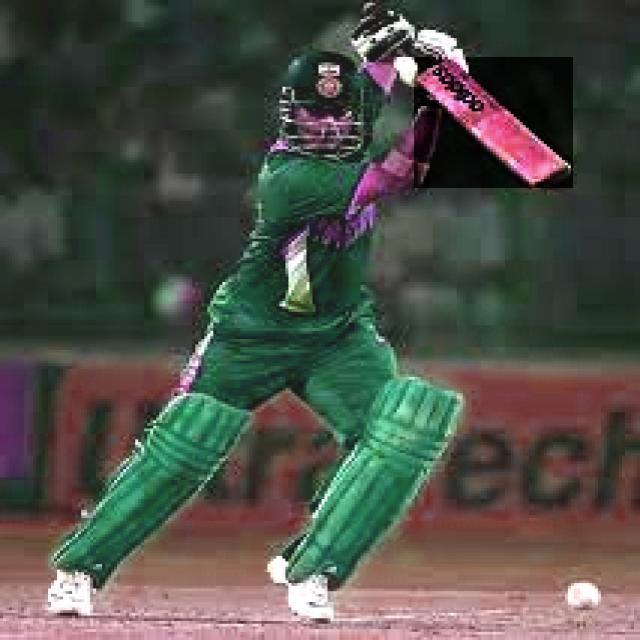bat: (417, 55, 579, 188)
toe: (527, 166, 573, 187)
